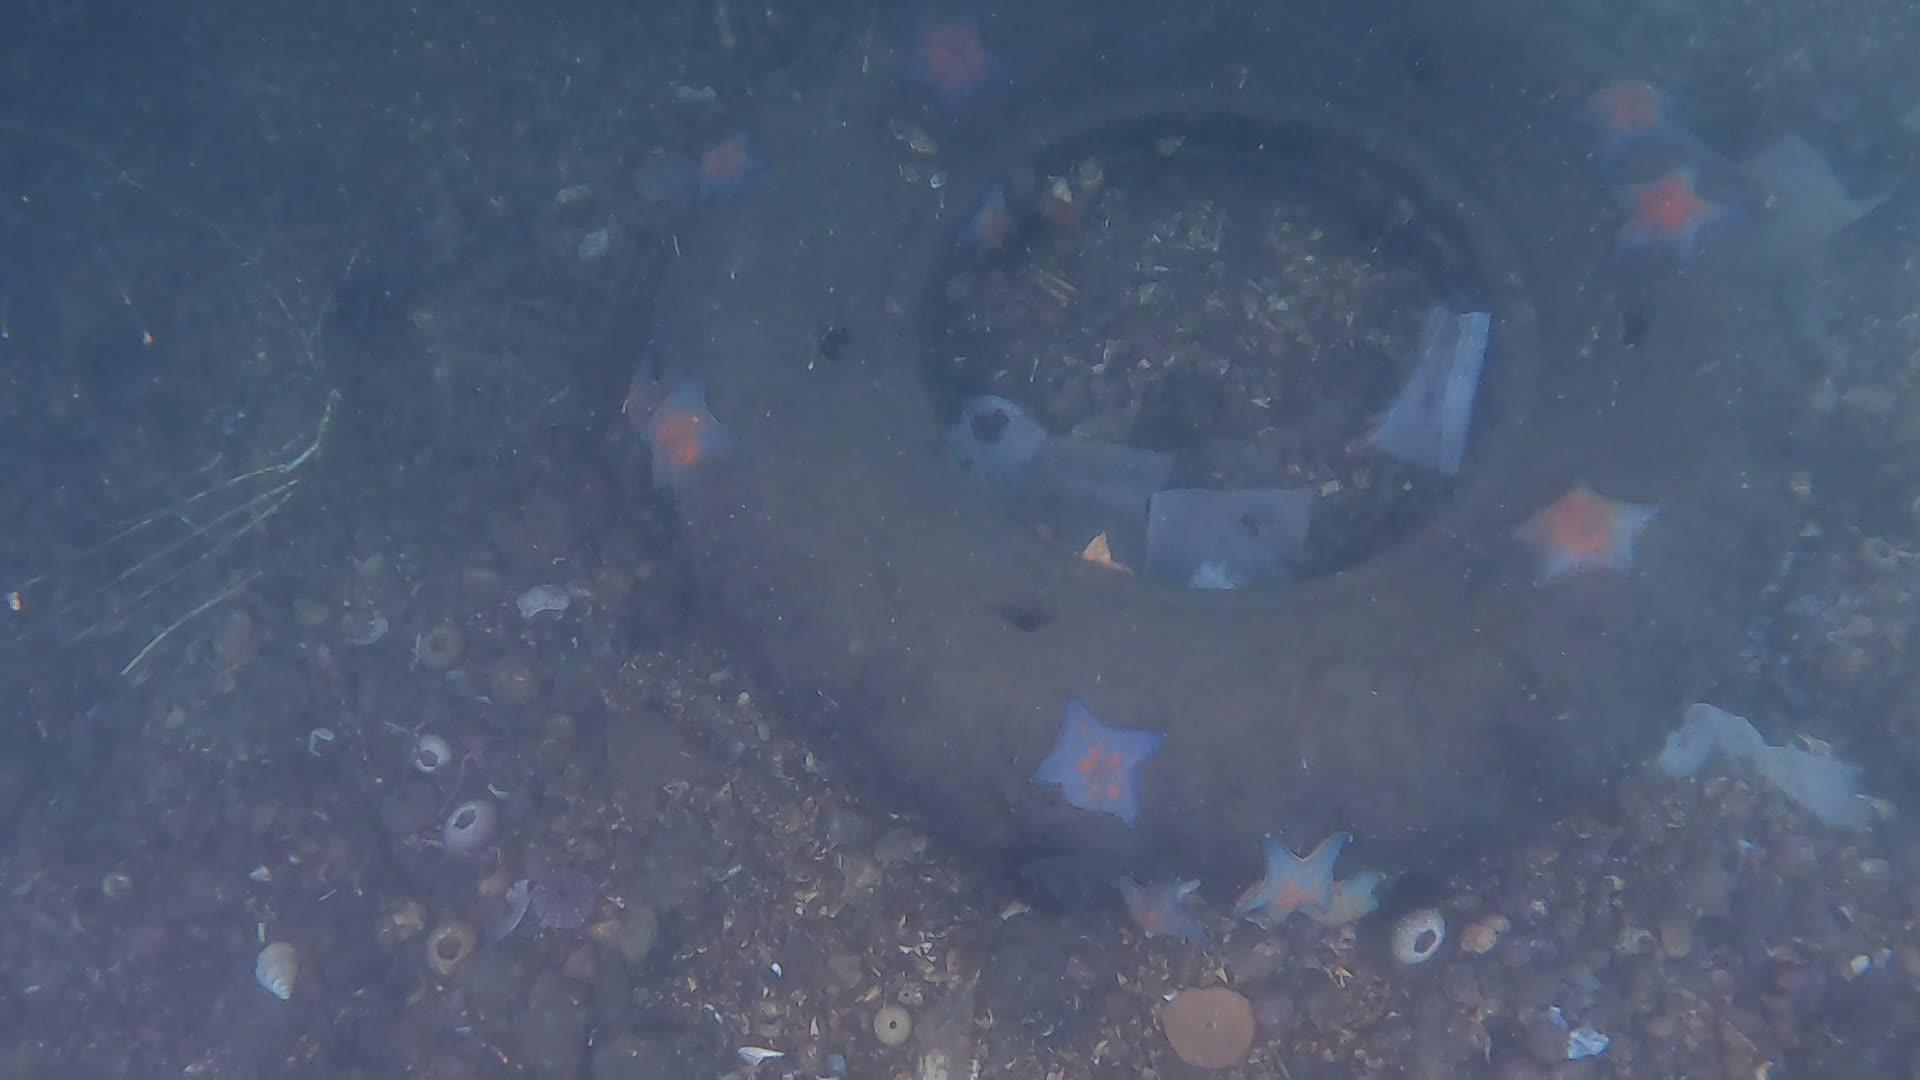tire: (632, 12, 1784, 876)
